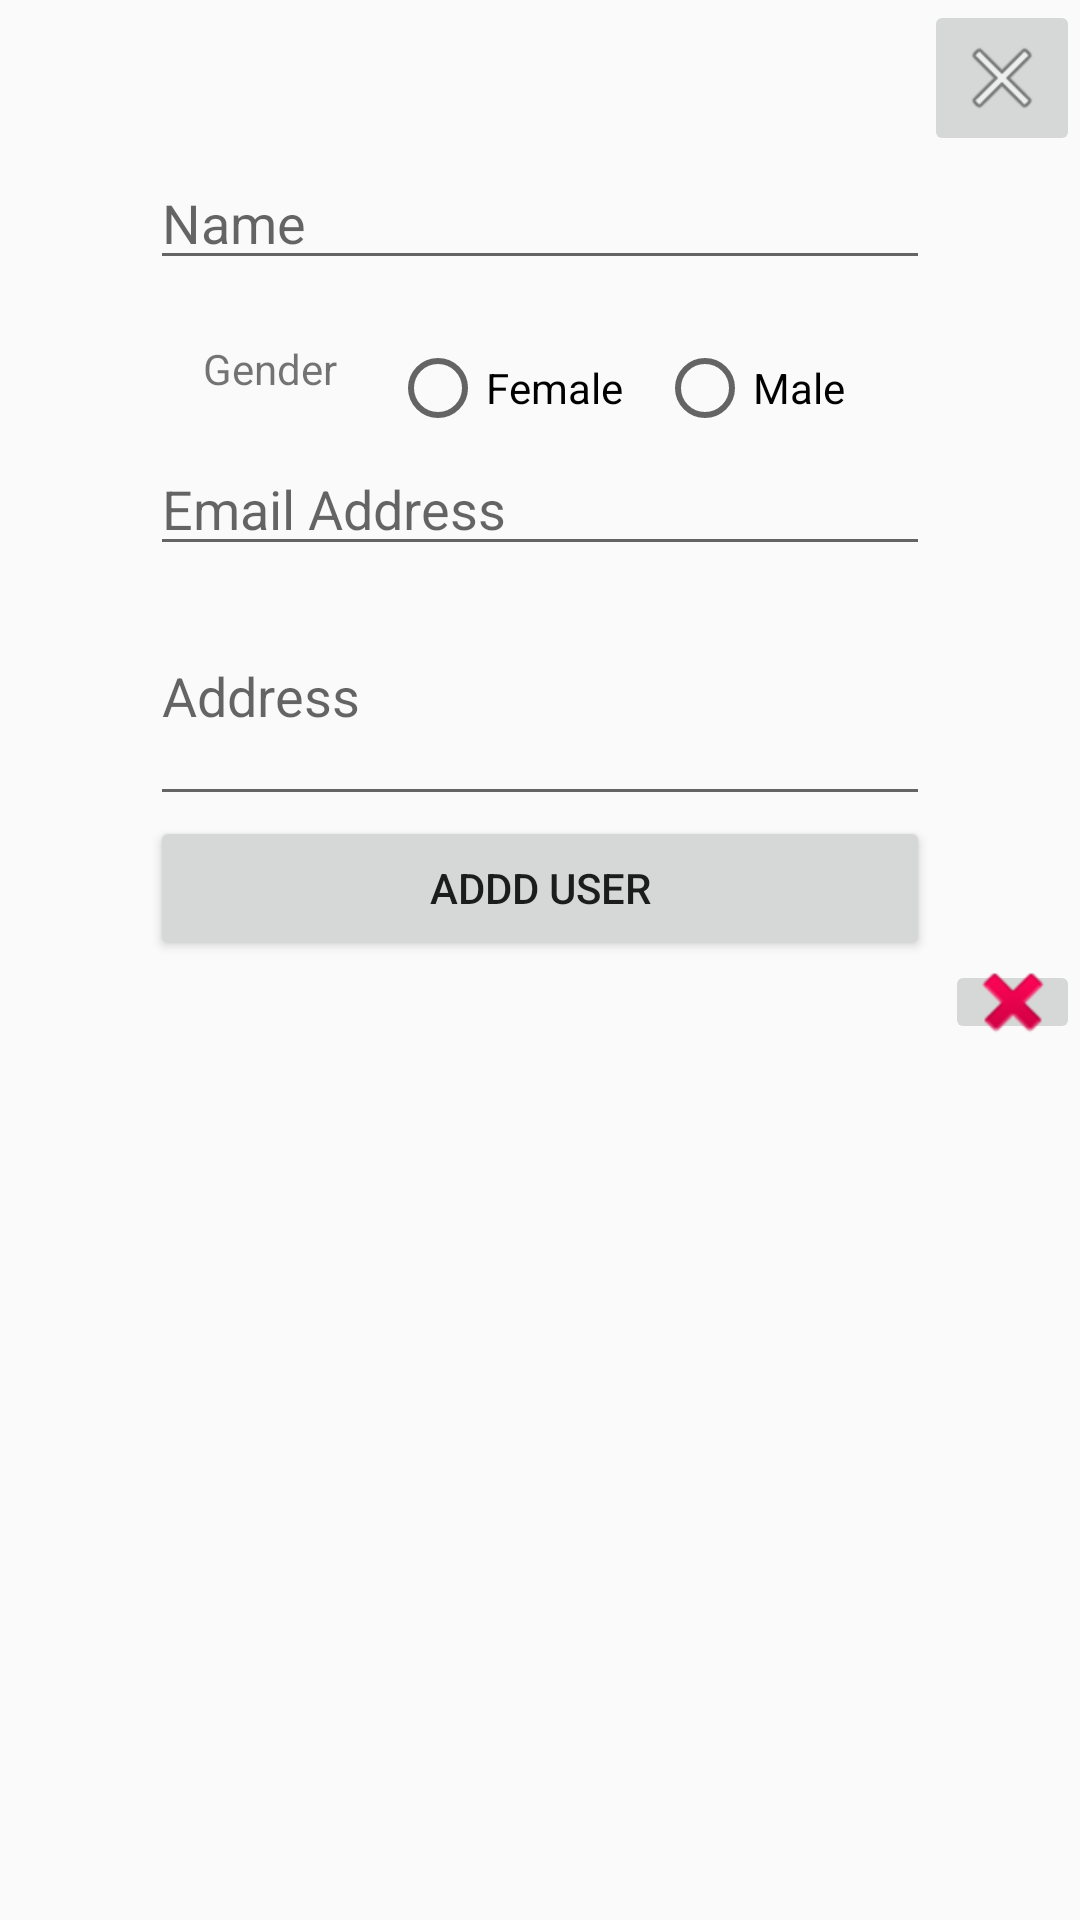

Where to tap for icons on this 1080×1920 app screen, as (x=x, y=y):
close clear cancel: (x=1002, y=78)
delete: (x=1012, y=1002)
